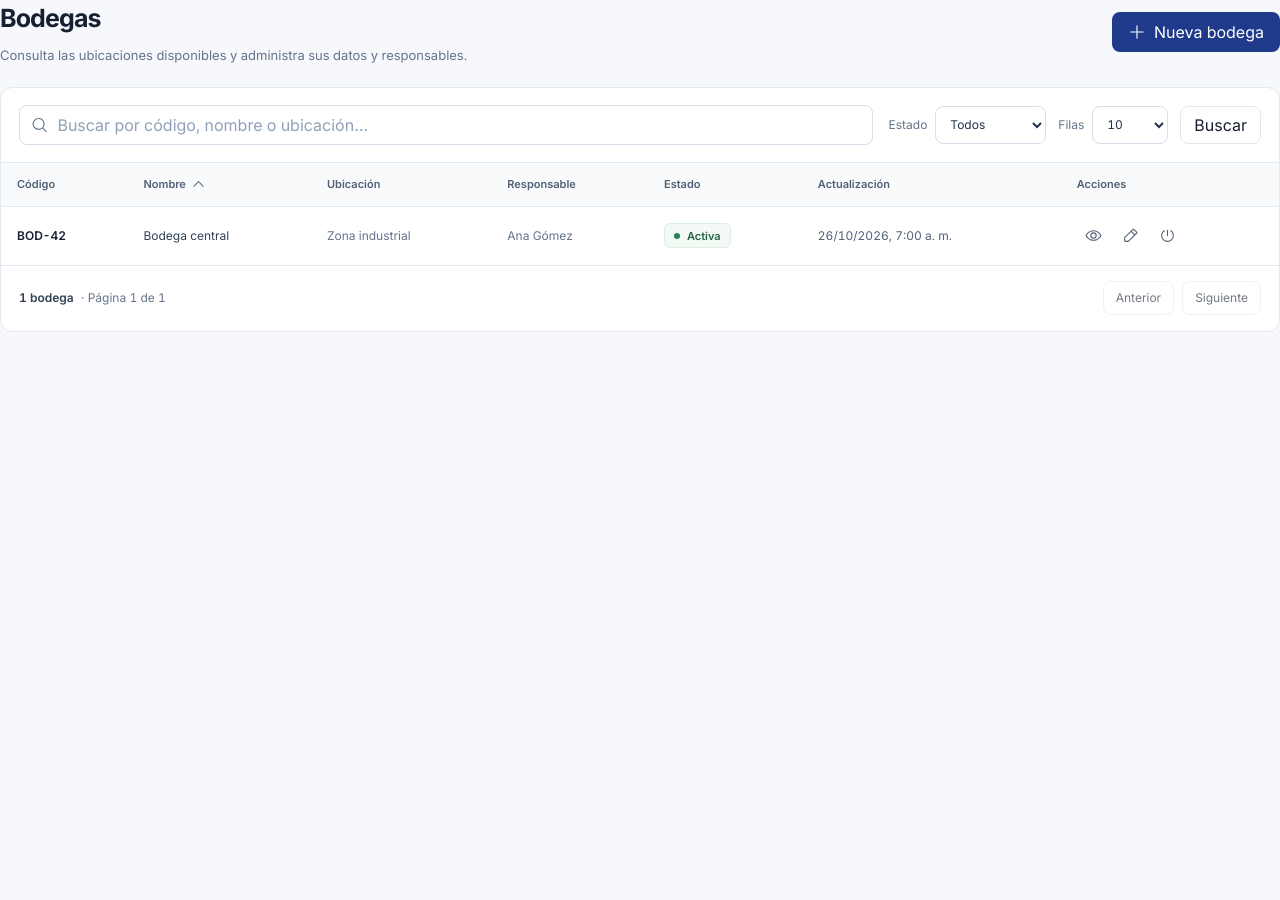
Scenario: WarehousesPage › validates creation and saves a warehouse with an optional responsible
Expected: the row "BOD-42 Bodega central" is shown, [1,207,1279,265]
Click the button "Nueva bodega": (1196, 32) [1112,12,1279,52]
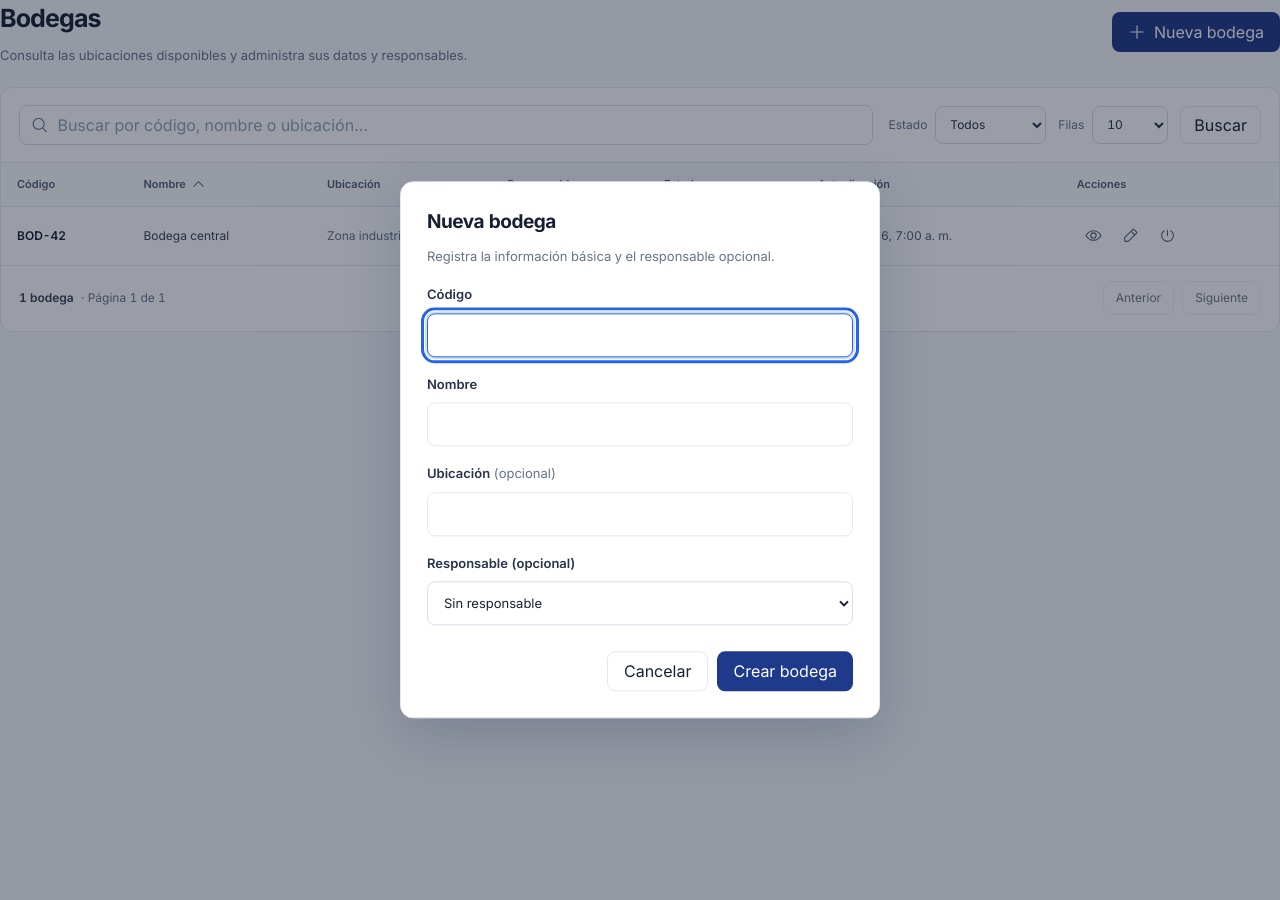
Click the button "Crear bodega": (785, 672) [718,652,853,692]
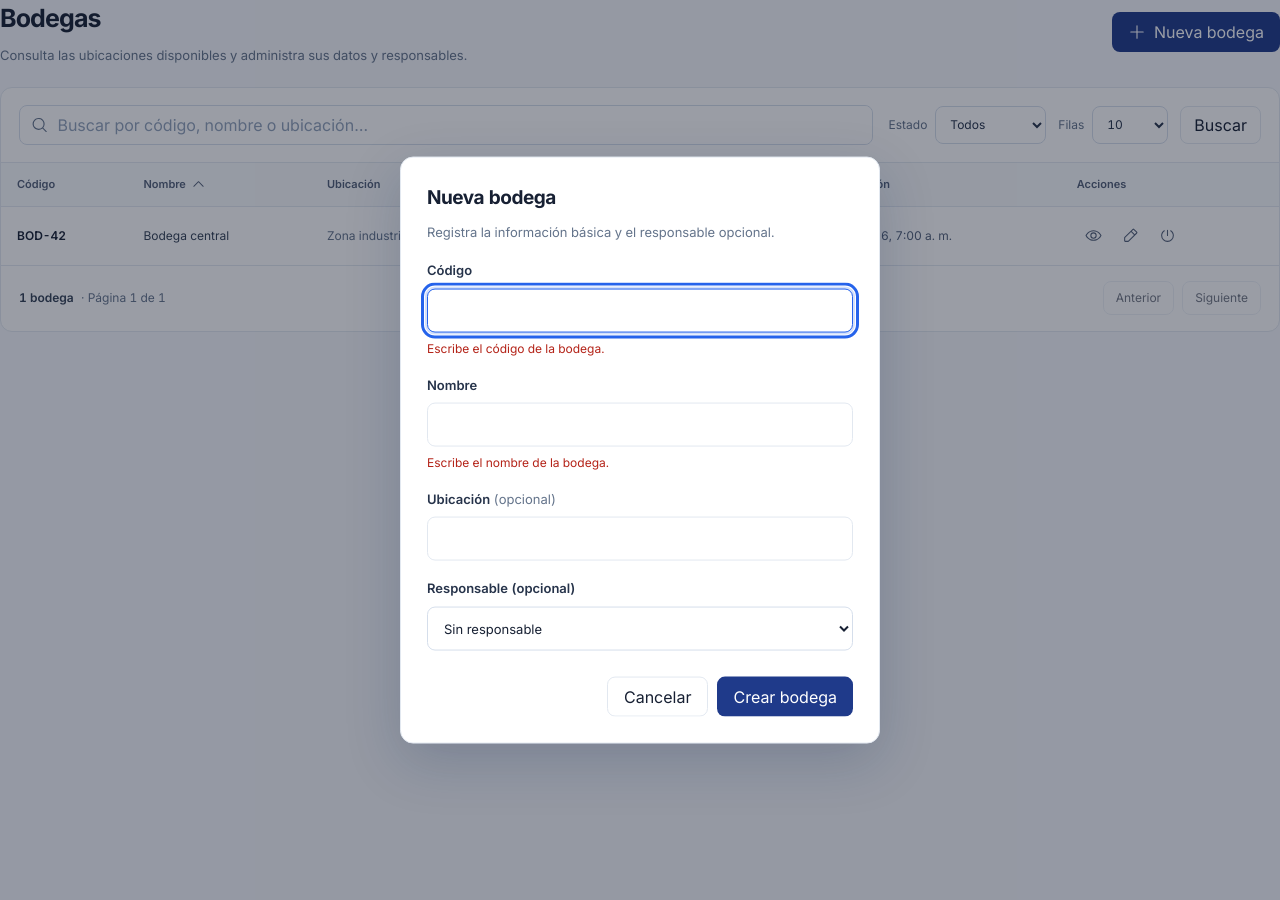
Now the text "Escribe el código de la bodega." is shown, box [427,340,604,355]
In the field labelled "Código": (640, 310) [427,288,853,332], type " bod-77 "
In the field labelled "Nombre": (640, 425) [427,403,853,447], type "Bodega norte"
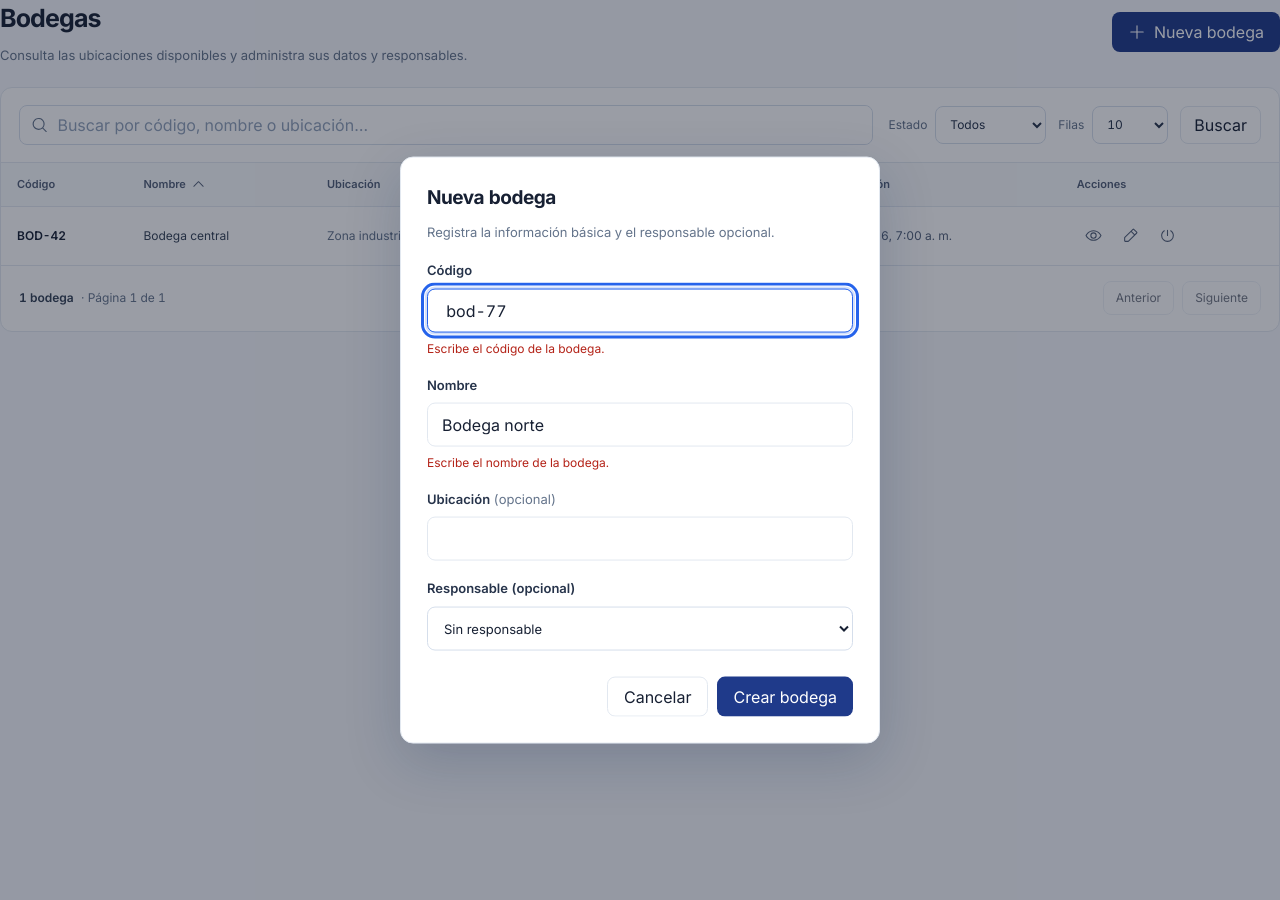
In the field labelled "Ubicación (opcional)": (640, 539) [427,517,853,561], type "Sede norte"
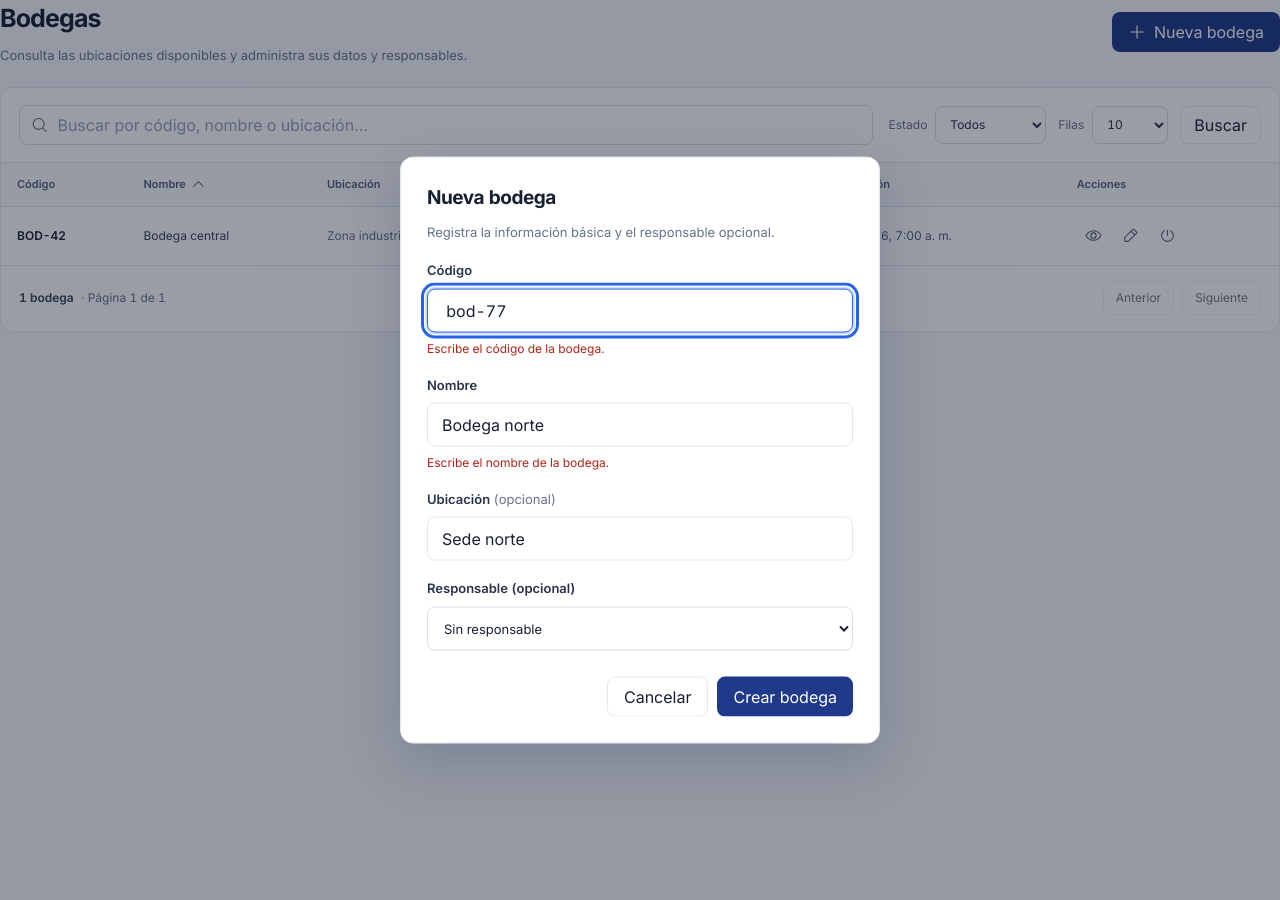
Select "Ana Gómez · ana@example.invalid" in the dropdown labelled "Responsable (opcional)": (640, 628) [427,606,853,650]
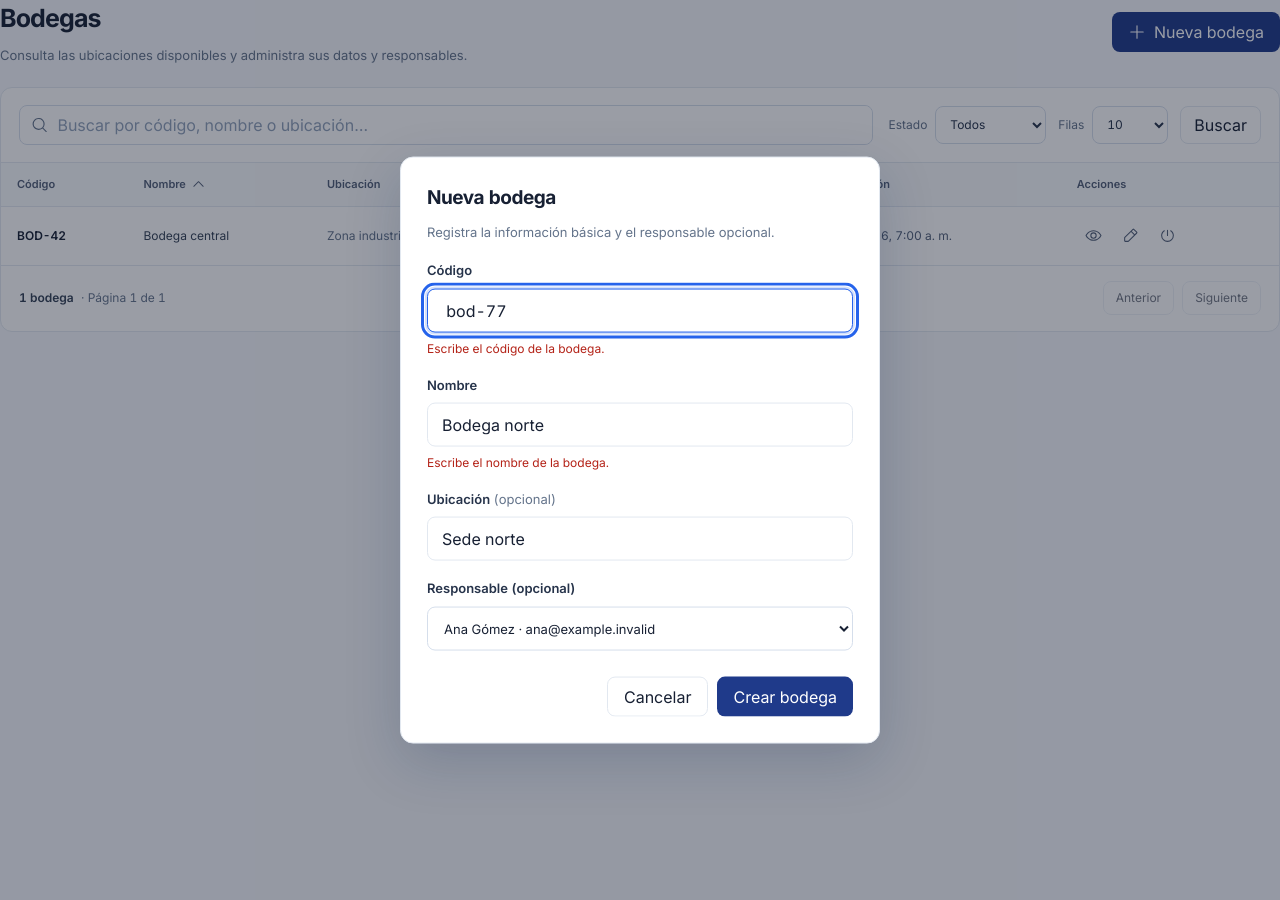
Click the button "Crear bodega": (785, 696) [718,676,853,716]
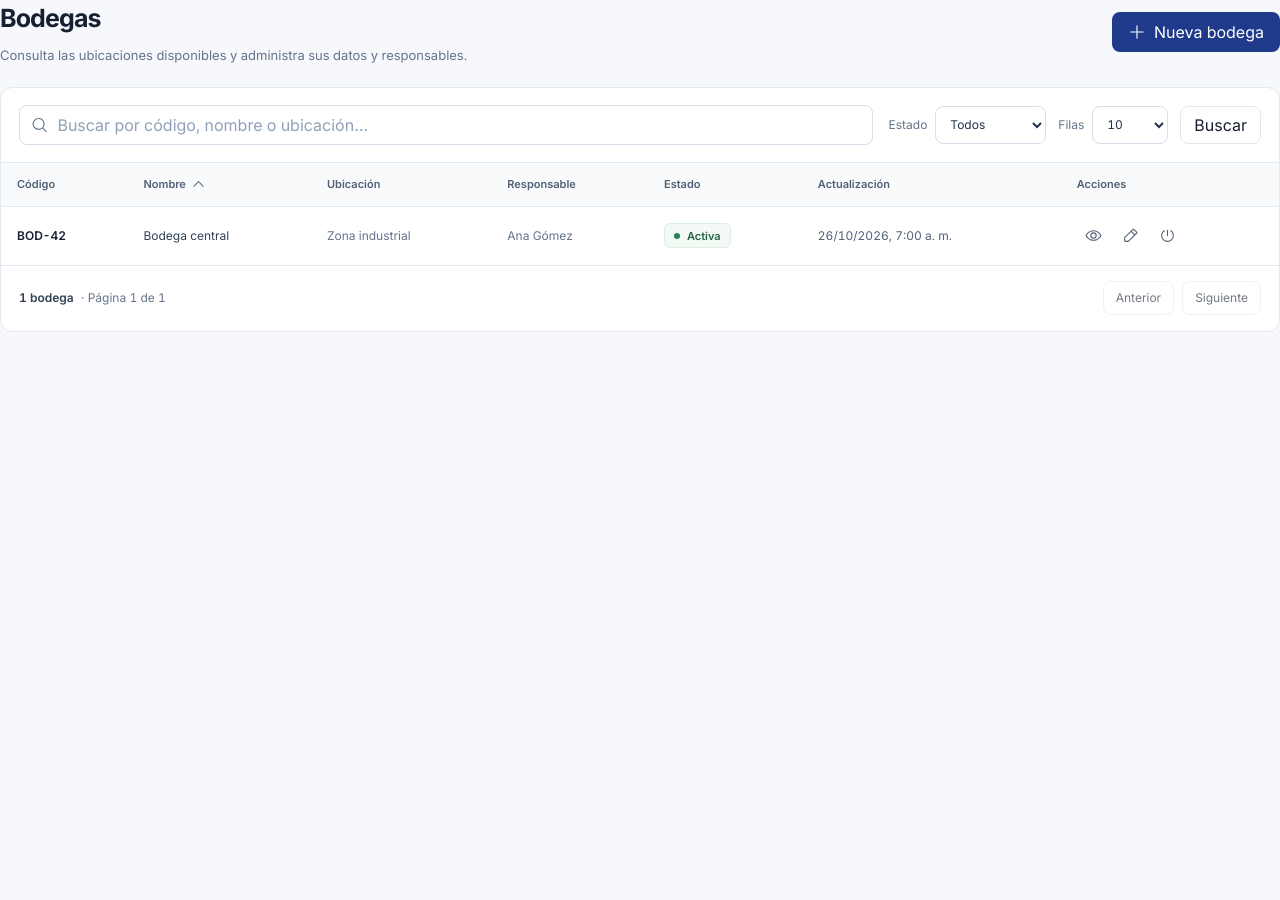
Now the dialog is gone
